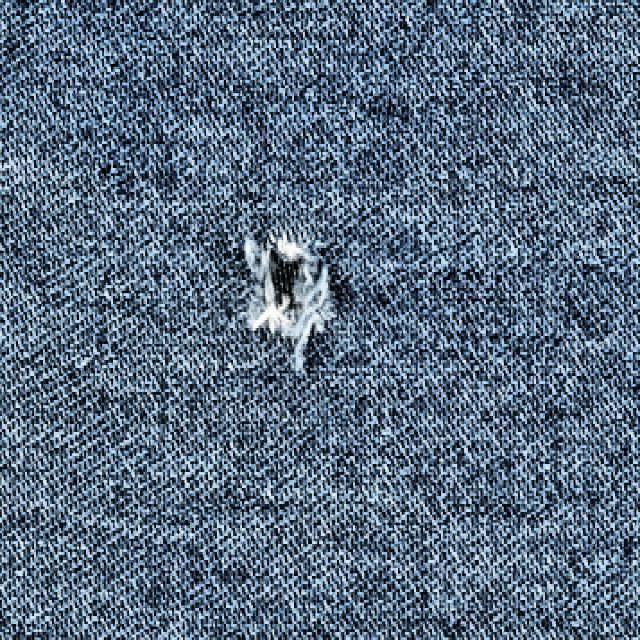seam: (190, 203, 366, 398)
